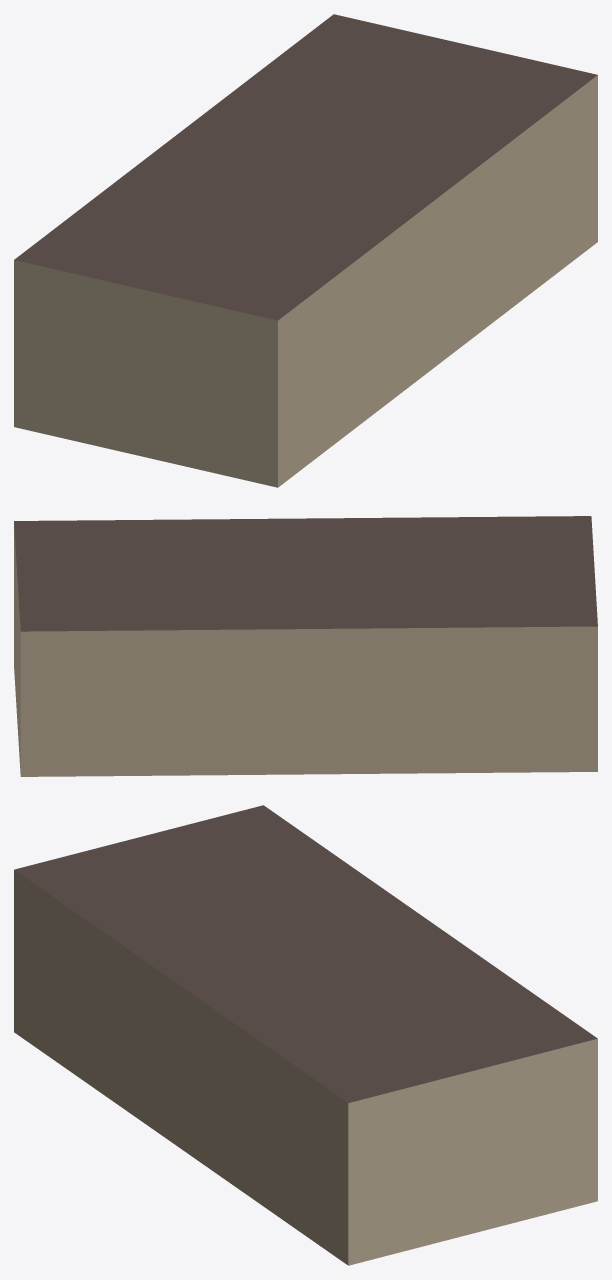
The picture shows the model from 3 angles, top to bottom: view 1: azimuth 30°, elevation 25°; view 2: azimuth 150°, elevation 25°; view 3: azimuth 270°, elevation 25°; orthographic projection. The views are drawn at different scales.
Visible parts, largest first — view 1: HP-w693448966; view 2: HP-w693448966; view 3: HP-w693448966.
Part boxes in pixels (x1=…): HP-w693448966: x1=14, y1=14, x2=597, y2=487; HP-w693448966: x1=14, y1=516, x2=597, y2=776; HP-w693448966: x1=14, y1=805, x2=597, y2=1265.
Bounding box in the file's own units: 35.37 × 9 × 29.29.
